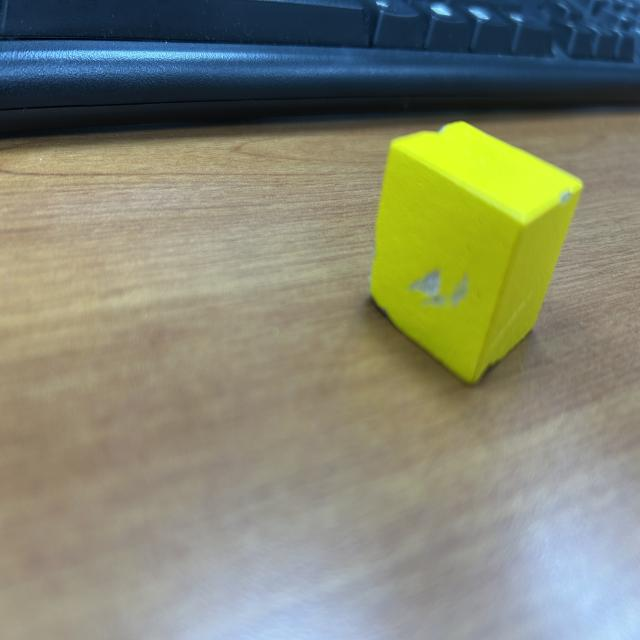broken: (369, 120, 584, 387)
